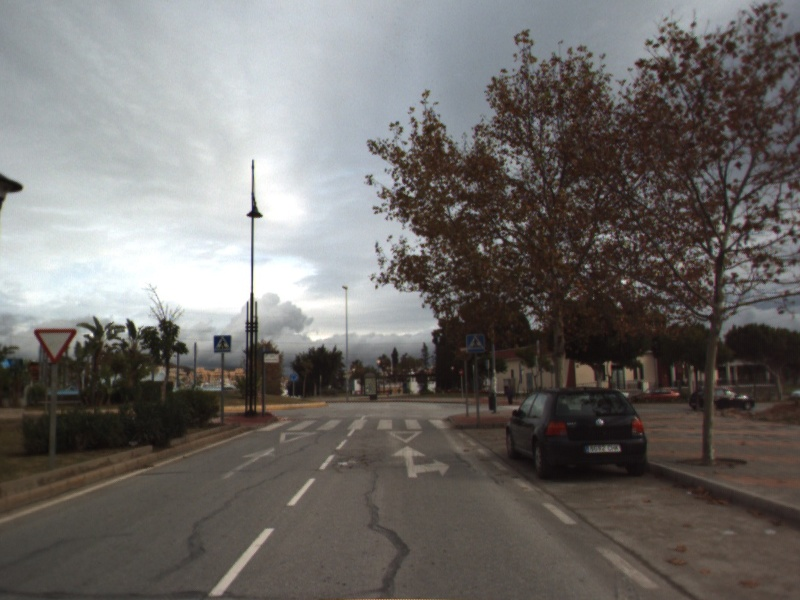STRAIGHT: (219, 445, 278, 481)
STRAIGHT_RIGHT: (389, 444, 452, 480)
